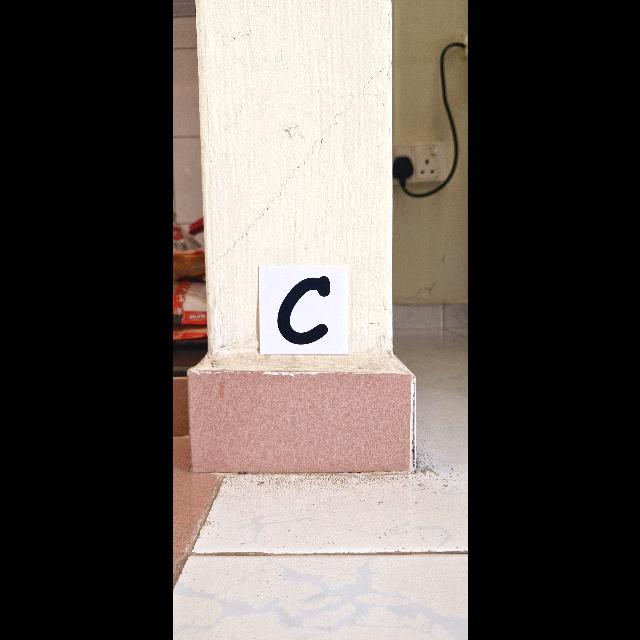C: (277, 276, 330, 345)
